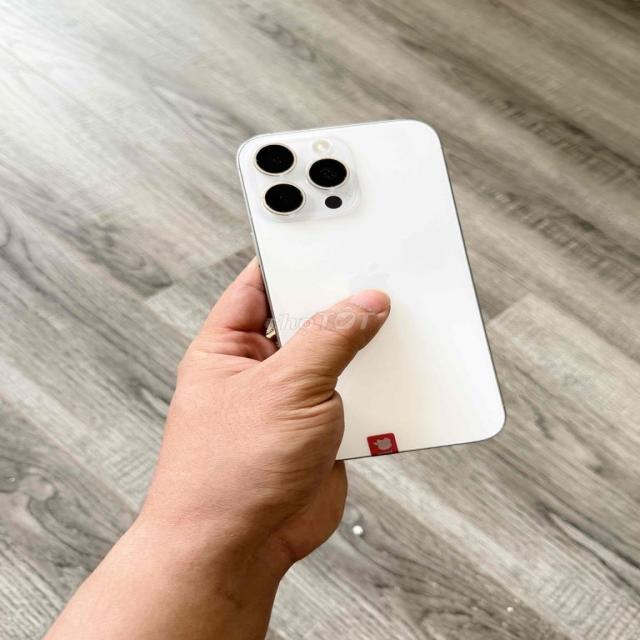gen_16: (237, 120, 504, 458)
